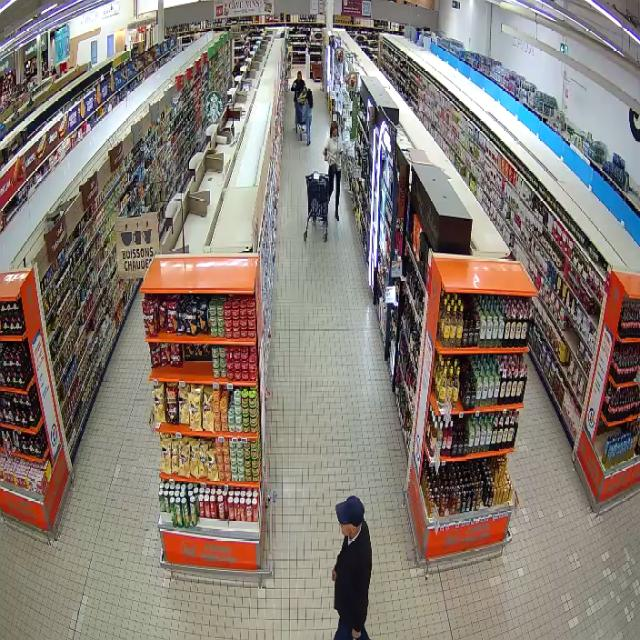article: (324, 148, 328, 161)
hands: (352, 629, 360, 638), (332, 569, 336, 582)
person: (332, 496, 371, 639), (324, 121, 344, 219)
